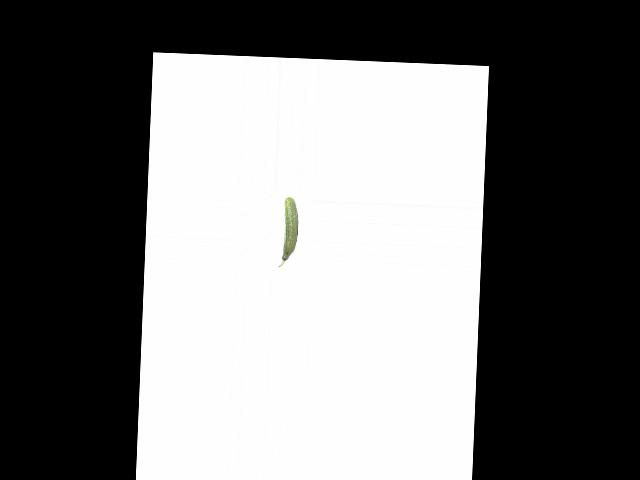cucumber: (278, 197, 299, 268)
